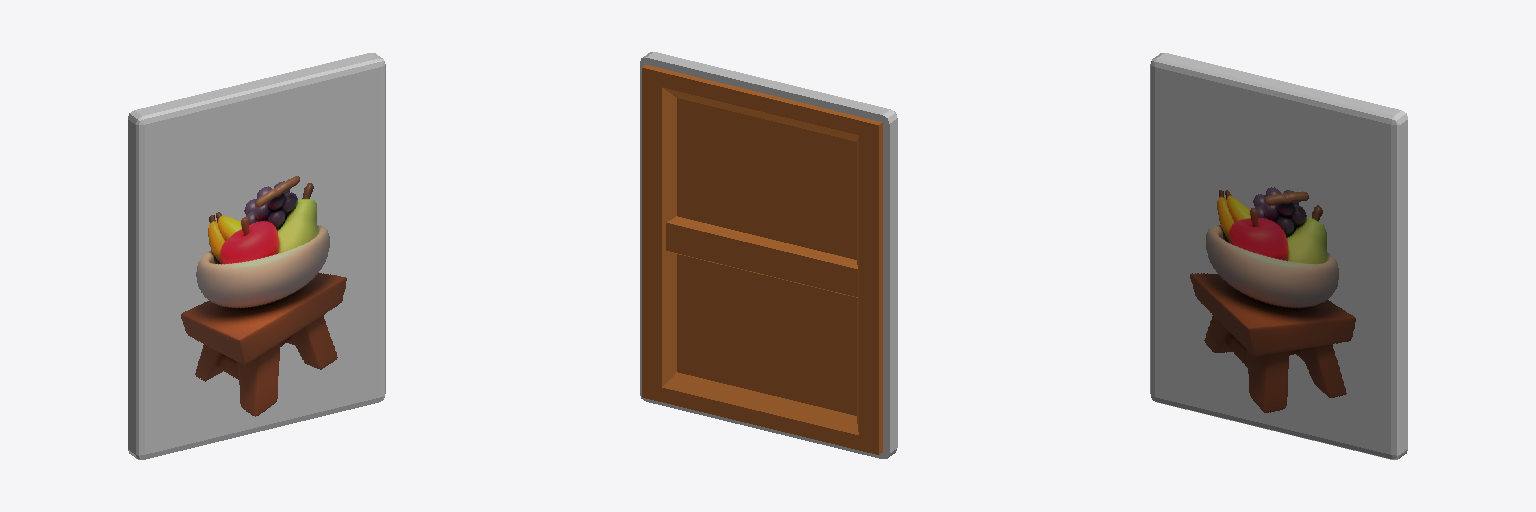
3 views of the same model, side by side, from view 1: azimuth 30°, elevation 25°; view 2: azimuth 150°, elevation 25°; view 3: azimuth 330°, elevation 25° (orthographic).
Parts seen in each view (by area): view 1: painting_with_texture_Cube.183; view 2: painting_with_texture_Cube.183; view 3: painting_with_texture_Cube.183.
Boxes of the visible parts, <box> form: painting_with_texture_Cube.183: <box>128,53,385,459</box>; painting_with_texture_Cube.183: <box>640,52,897,458</box>; painting_with_texture_Cube.183: <box>1150,53,1407,459</box>.
Bounding box in the file's own units: 1.19 × 1.57 × 0.1228.
3 materials, 1 textured.